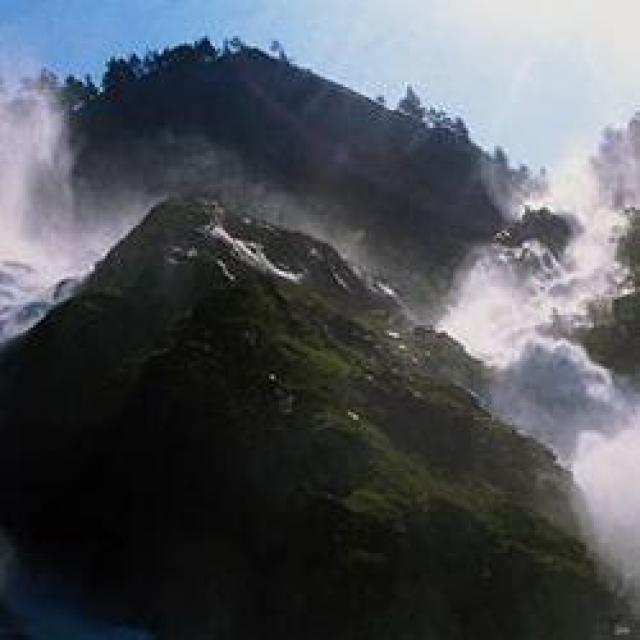Smoke: (432, 11, 640, 548), (6, 43, 88, 320)
